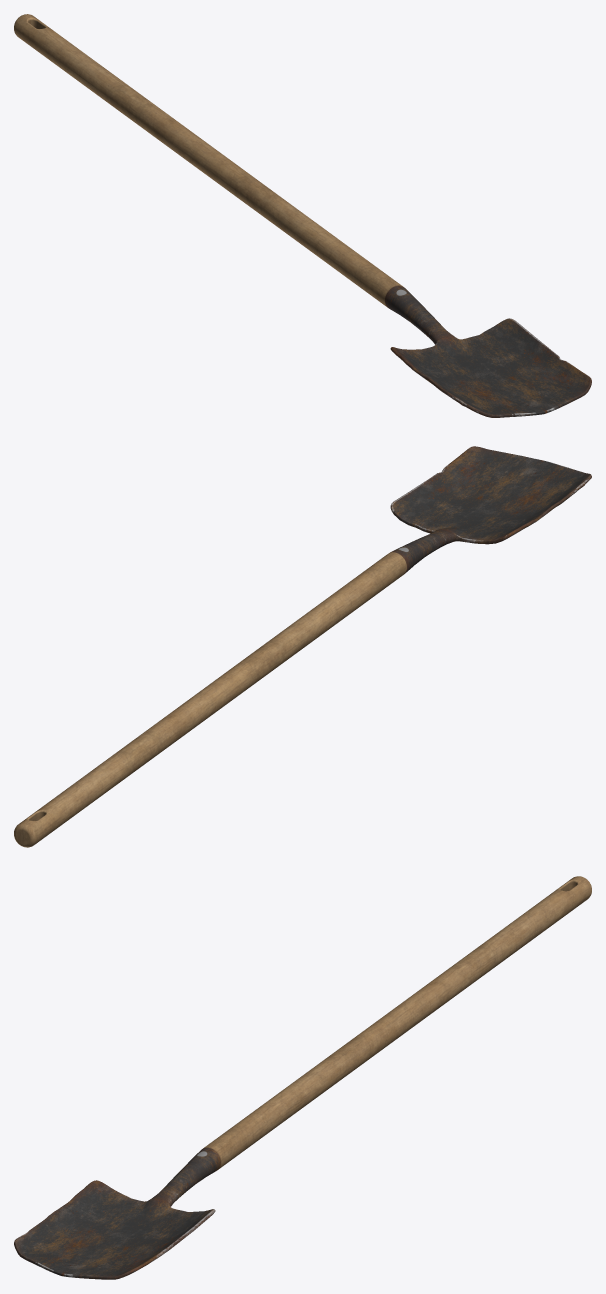
The model's file is scoop.glb.
The picture shows the model from 3 angles, top to bottom: view 1: azimuth 30°, elevation 25°; view 2: azimuth 150°, elevation 25°; view 3: azimuth 330°, elevation 25°; orthographic projection.
Visible parts, largest first — view 1: Shovel; view 2: Shovel; view 3: Shovel.
Boxes of the visible parts, bbox=[...] form: Shovel: bbox=[14, 14, 591, 417]; Shovel: bbox=[14, 446, 591, 847]; Shovel: bbox=[14, 876, 591, 1279].
Size of the model in its own units: 0.1713 by 0.0361 by 1.25.
Materials: 1 (1 with a texture image).
